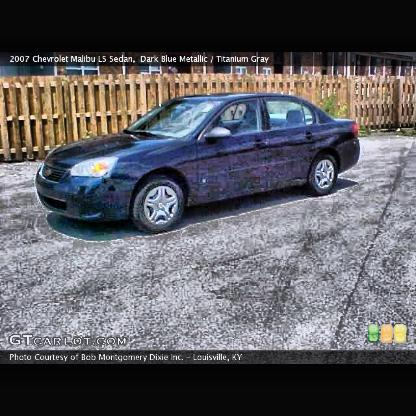Chevrolet Malibu Sedan 2007: (36, 93, 363, 234)
